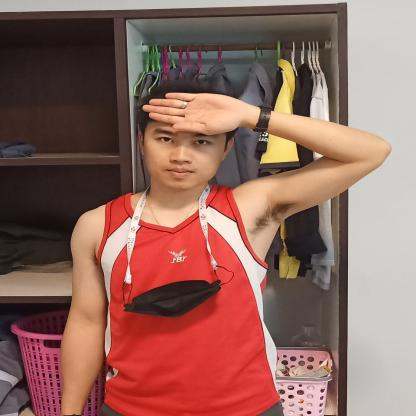Sick: (125, 84, 403, 209)
